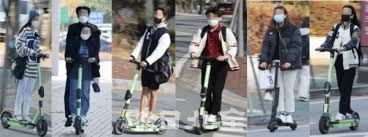helmet: (0, 8, 51, 135)
multiple: (60, 5, 102, 135)
nonhelmet: (112, 6, 173, 135), (314, 4, 366, 134), (187, 6, 238, 132), (257, 5, 300, 131)
